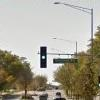Traffic light: (34, 40, 54, 79)
